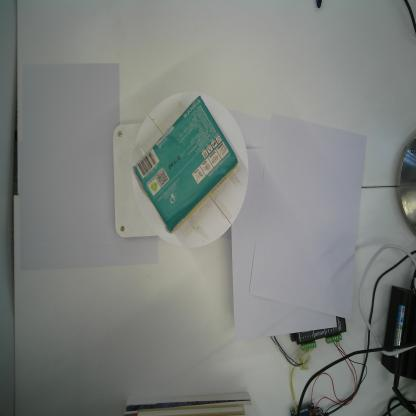Tissue: (132, 96, 240, 235)
